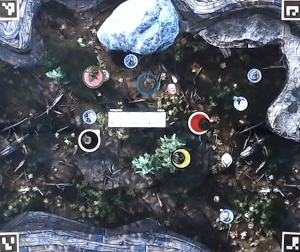black: (77, 129, 100, 152)
brown_turquoise: (136, 71, 159, 94)
lime_green_violet: (169, 147, 192, 170)
pink_green: (83, 64, 106, 87)
red: (188, 111, 211, 134)
